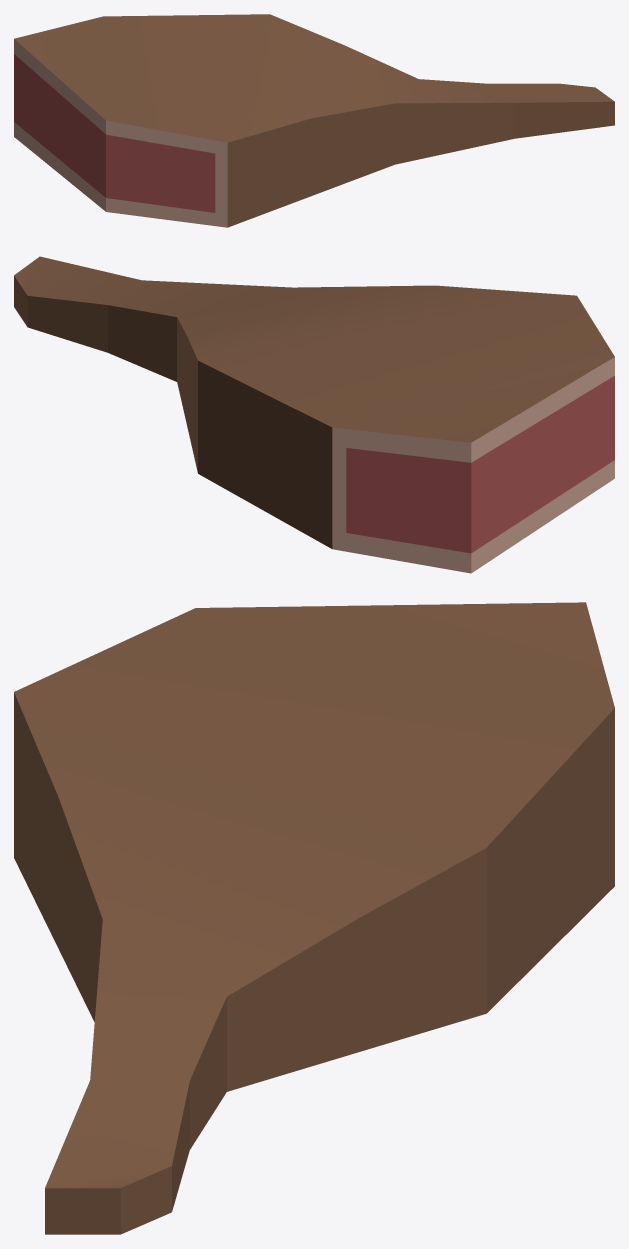
The model's file is Jambon_Corse(Prisuttu tu connais).fbx.
The picture shows the model from 3 angles, top to bottom: view 1: azimuth 30°, elevation 25°; view 2: azimuth 150°, elevation 25°; view 3: azimuth 270°, elevation 25°; orthographic projection. The views are drawn at different scales.
Parts seen in each view (by area): view 1: Jambon_Corse(Prisuttu tu connais); view 2: Jambon_Corse(Prisuttu tu connais); view 3: Jambon_Corse(Prisuttu tu connais).
Boxes of the visible parts, <box> form: Jambon_Corse(Prisuttu tu connais): <box>14,14,614,227</box>; Jambon_Corse(Prisuttu tu connais): <box>14,256,614,573</box>; Jambon_Corse(Prisuttu tu connais): <box>14,602,614,1234</box>.
Size of the model in its own units: 120 by 24 by 68.15.
1 material, 1 textured.
